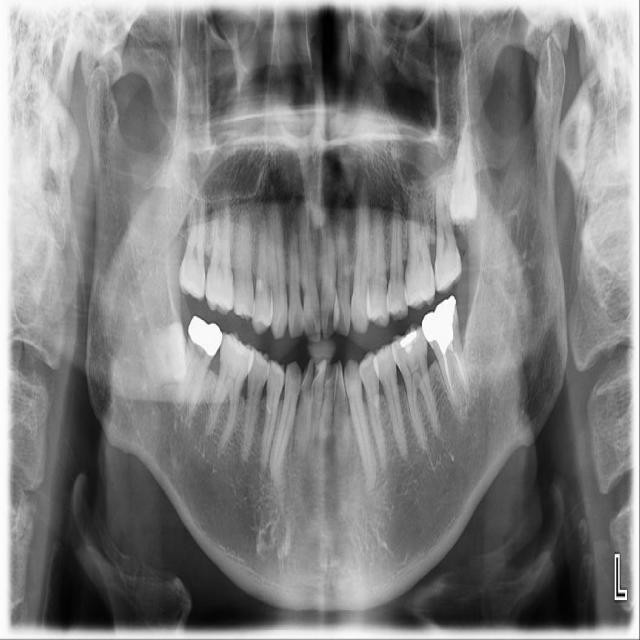3M ESPE Implant: (178, 185, 210, 303)
52: (411, 292, 479, 358), (379, 317, 443, 380), (179, 313, 229, 365)
73: (432, 335, 475, 406), (620, 617, 628, 627)
BioHorizons Implant: (434, 173, 463, 295)
BioLife Implant: (449, 122, 477, 226)
Blue Sky Bio Implant: (417, 295, 474, 413)
Caries: (204, 186, 235, 315)
Implant: (158, 314, 227, 421)
Keystone Dental Implant: (132, 321, 194, 387)
